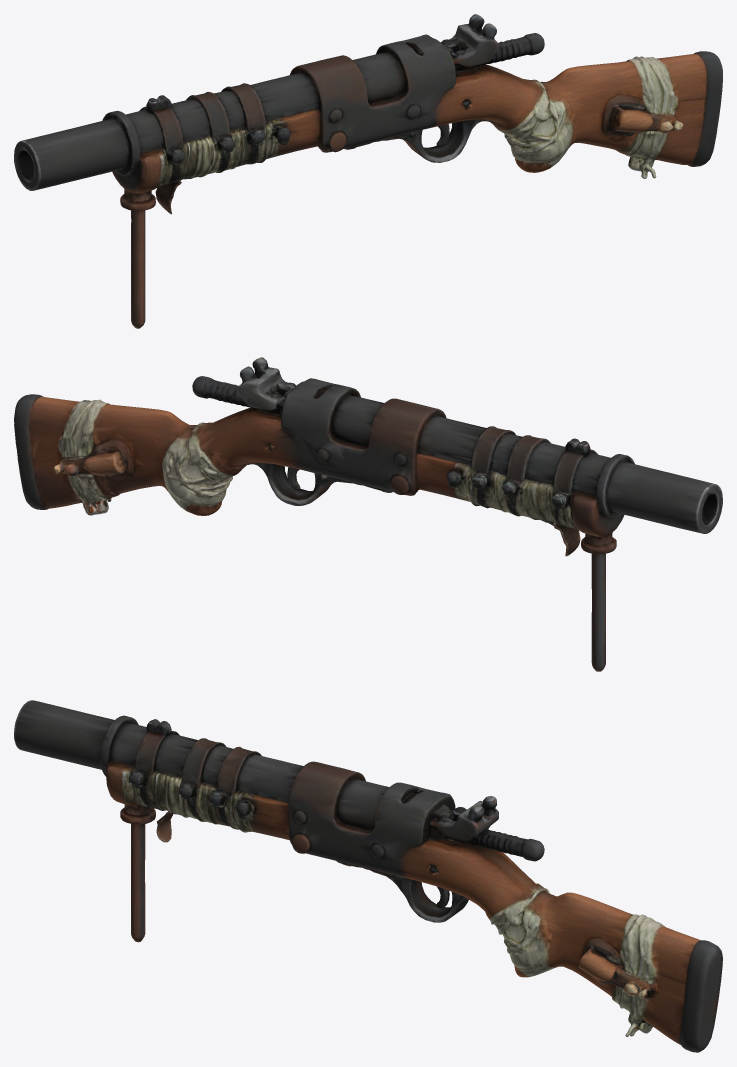
Rendered from Meshy_AI_Steampunk_Artisan_Rif_0627144810_balanced.glb.
3 views of the same model, one above another, from view 1: azimuth 30°, elevation 25°; view 2: azimuth 150°, elevation 25°; view 3: azimuth 330°, elevation 25° (orthographic).
Bounding box in the file's own units: 1.9 × 0.5941 × 0.2268.
Materials: 1 (1 with a texture image).
